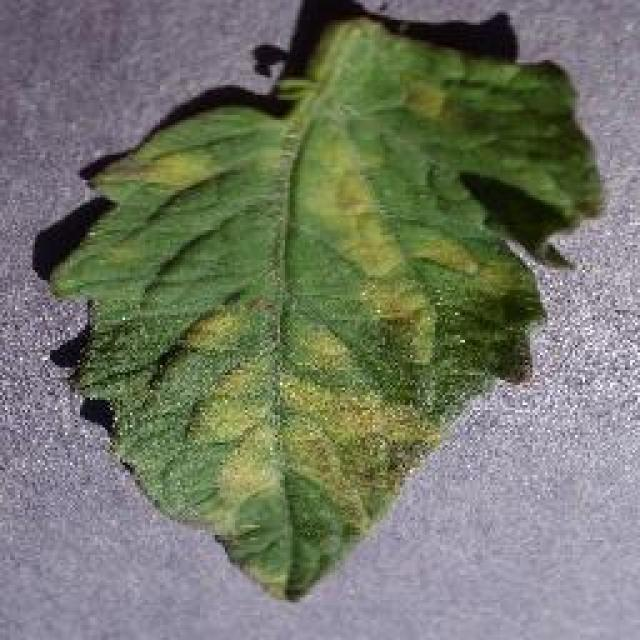leaf mold: (49, 17, 601, 605)
